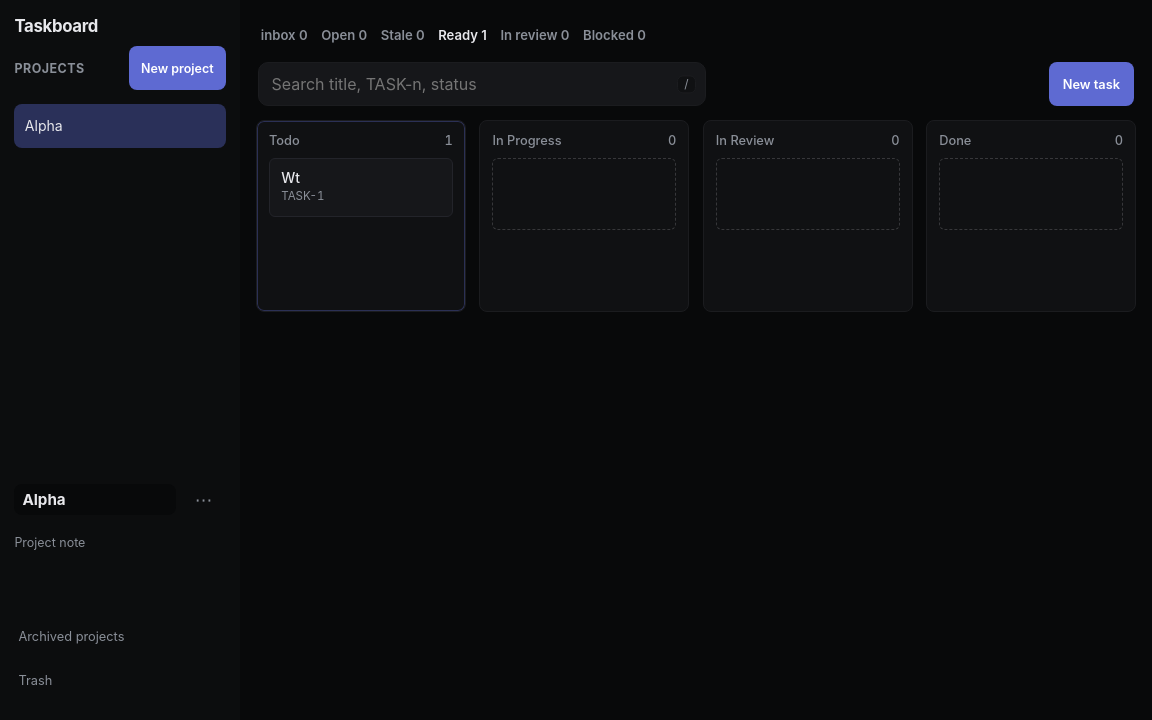
Scenario: Inspector workspace › shows recorded worktree and branch in editable fields
Click the text "Wt" at (291, 178), box [281, 169, 300, 186]
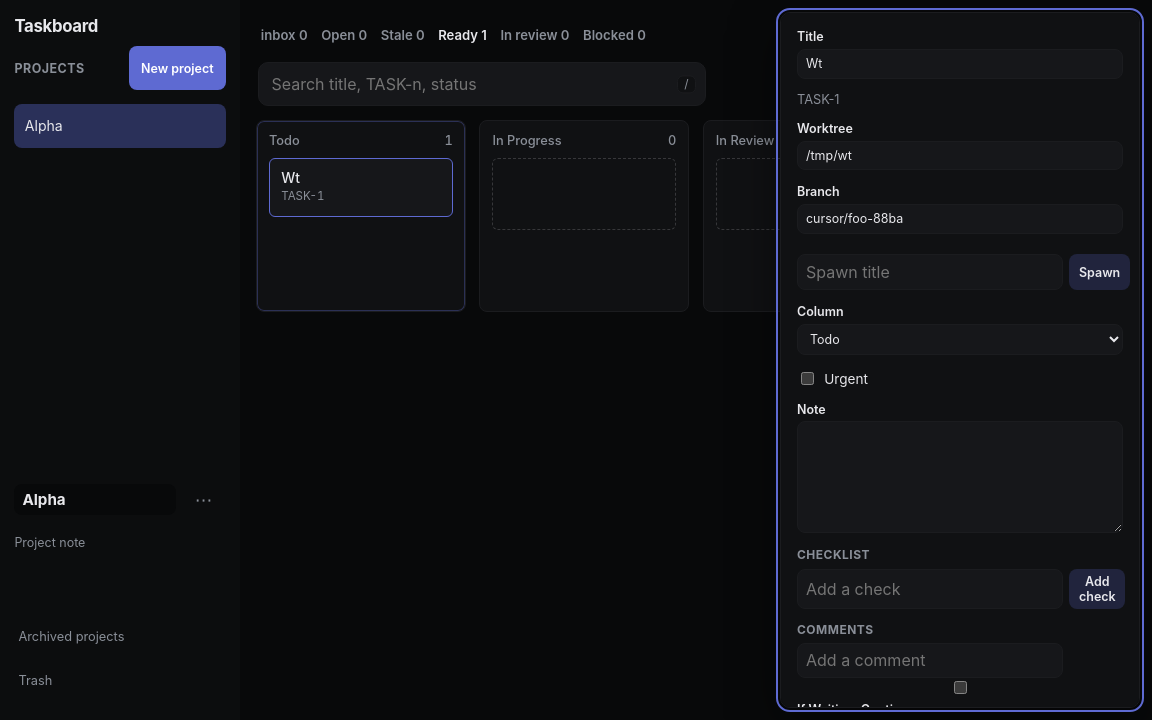
Expected: the field labelled "Worktree" holds "/tmp/wt", [797, 141, 1123, 170]
Expected: the field labelled "Branch" holds "cursor/foo-88ba", [797, 204, 1123, 234]
